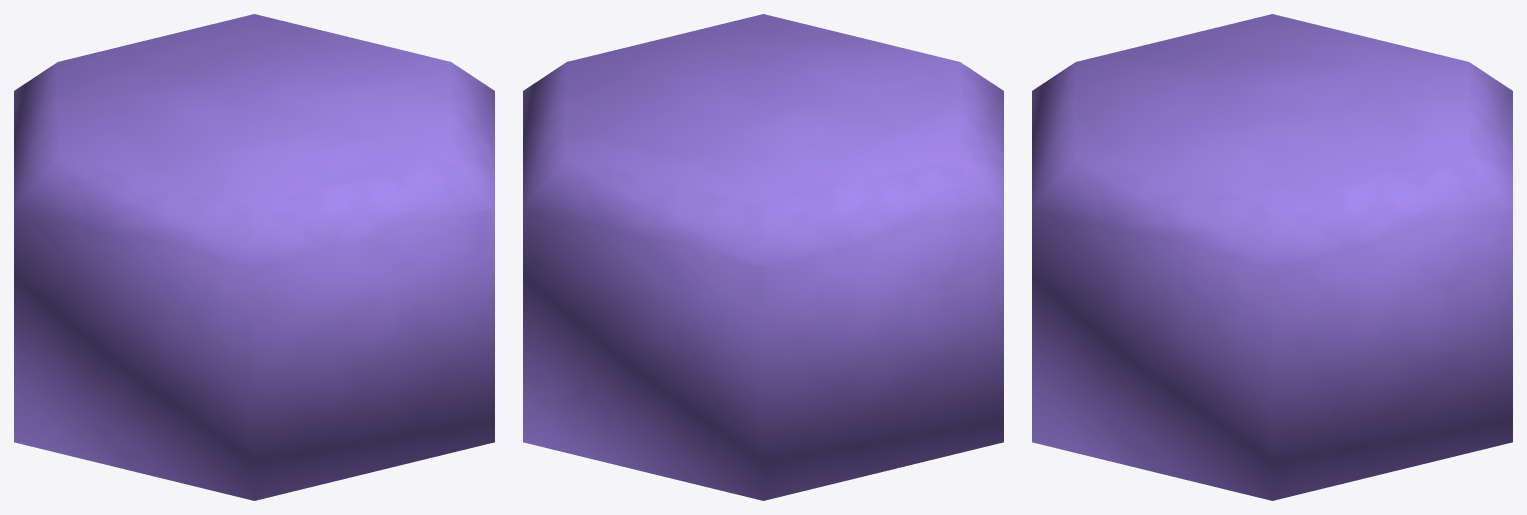
File: Cake_C_07.FBX
3 renders of one model, left to right at view 1: azimuth 30°, elevation 25°; view 2: azimuth 150°, elevation 25°; view 3: azimuth 270°, elevation 25°, orthographic.
Visible parts, largest first — view 1: Cake_D; view 2: Cake_D; view 3: Cake_D.
Part boxes in pixels (x1,y1,x2,y2): Cake_D: (14,14,494,500); Cake_D: (523,14,1003,500); Cake_D: (1032,14,1512,500).
Bounding box in the file's own units: 102 × 55.58 × 88.51.
